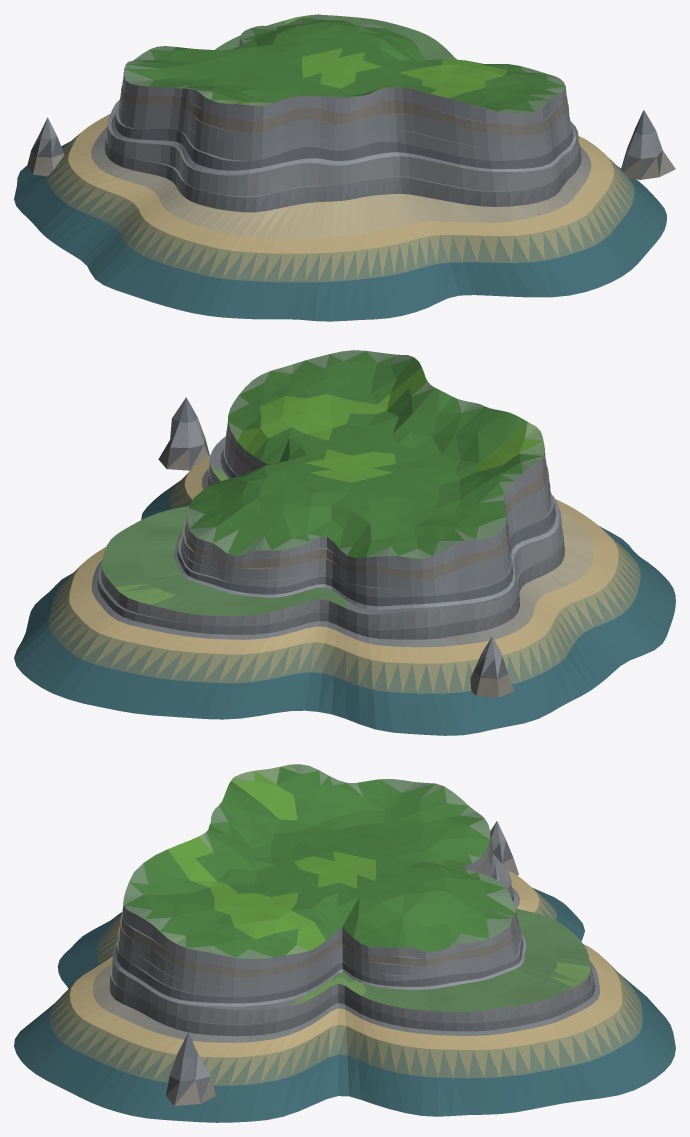
File: forge.glb
3 renders of one model, top to bottom at view 1: azimuth 30°, elevation 25°; view 2: azimuth 150°, elevation 25°; view 3: azimuth 270°, elevation 25°, orthographic. The views are drawn at different scales.
Visible parts, largest first — view 1: forge; view 2: forge; view 3: forge.
Boxes of the visible parts, x1,y1,x2,y2 form: forge: (14, 14, 675, 321); forge: (14, 350, 675, 735); forge: (14, 764, 675, 1122).
Bounding box in the file's own units: 65.96 × 20.26 × 70.84.
